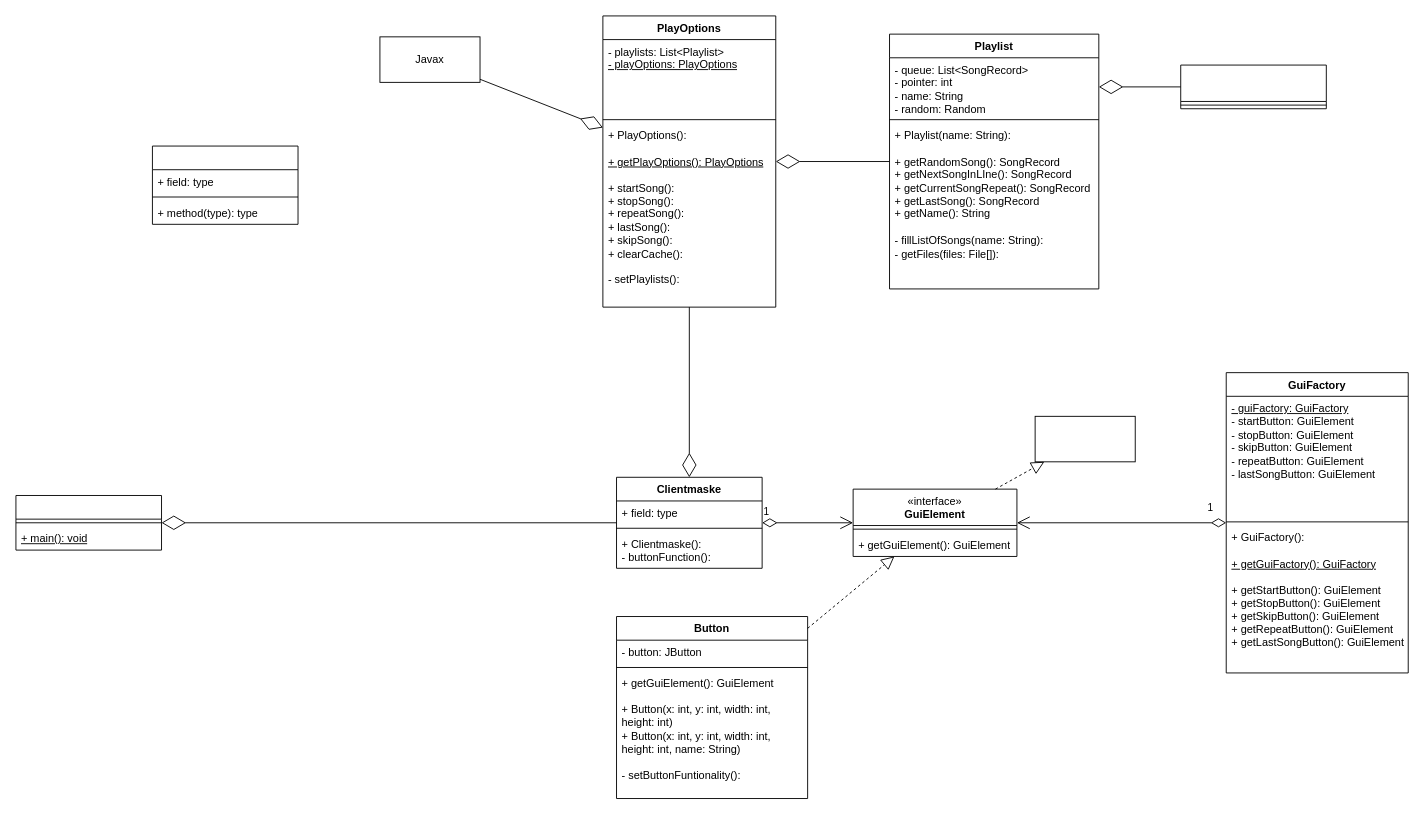
The diagram is 1424 pixels wide and 817 high, and some of its shapes have lost their labels. Here are the shapes that lost their labels. From the top down, the box of each, then its label:
(1180, 64, 1326, 109): «Record» SongRecord
(152, 145, 298, 224): ExceptionHandler
(1034, 415, 1135, 462): «interface» JFrame
(15, 495, 162, 550): App
